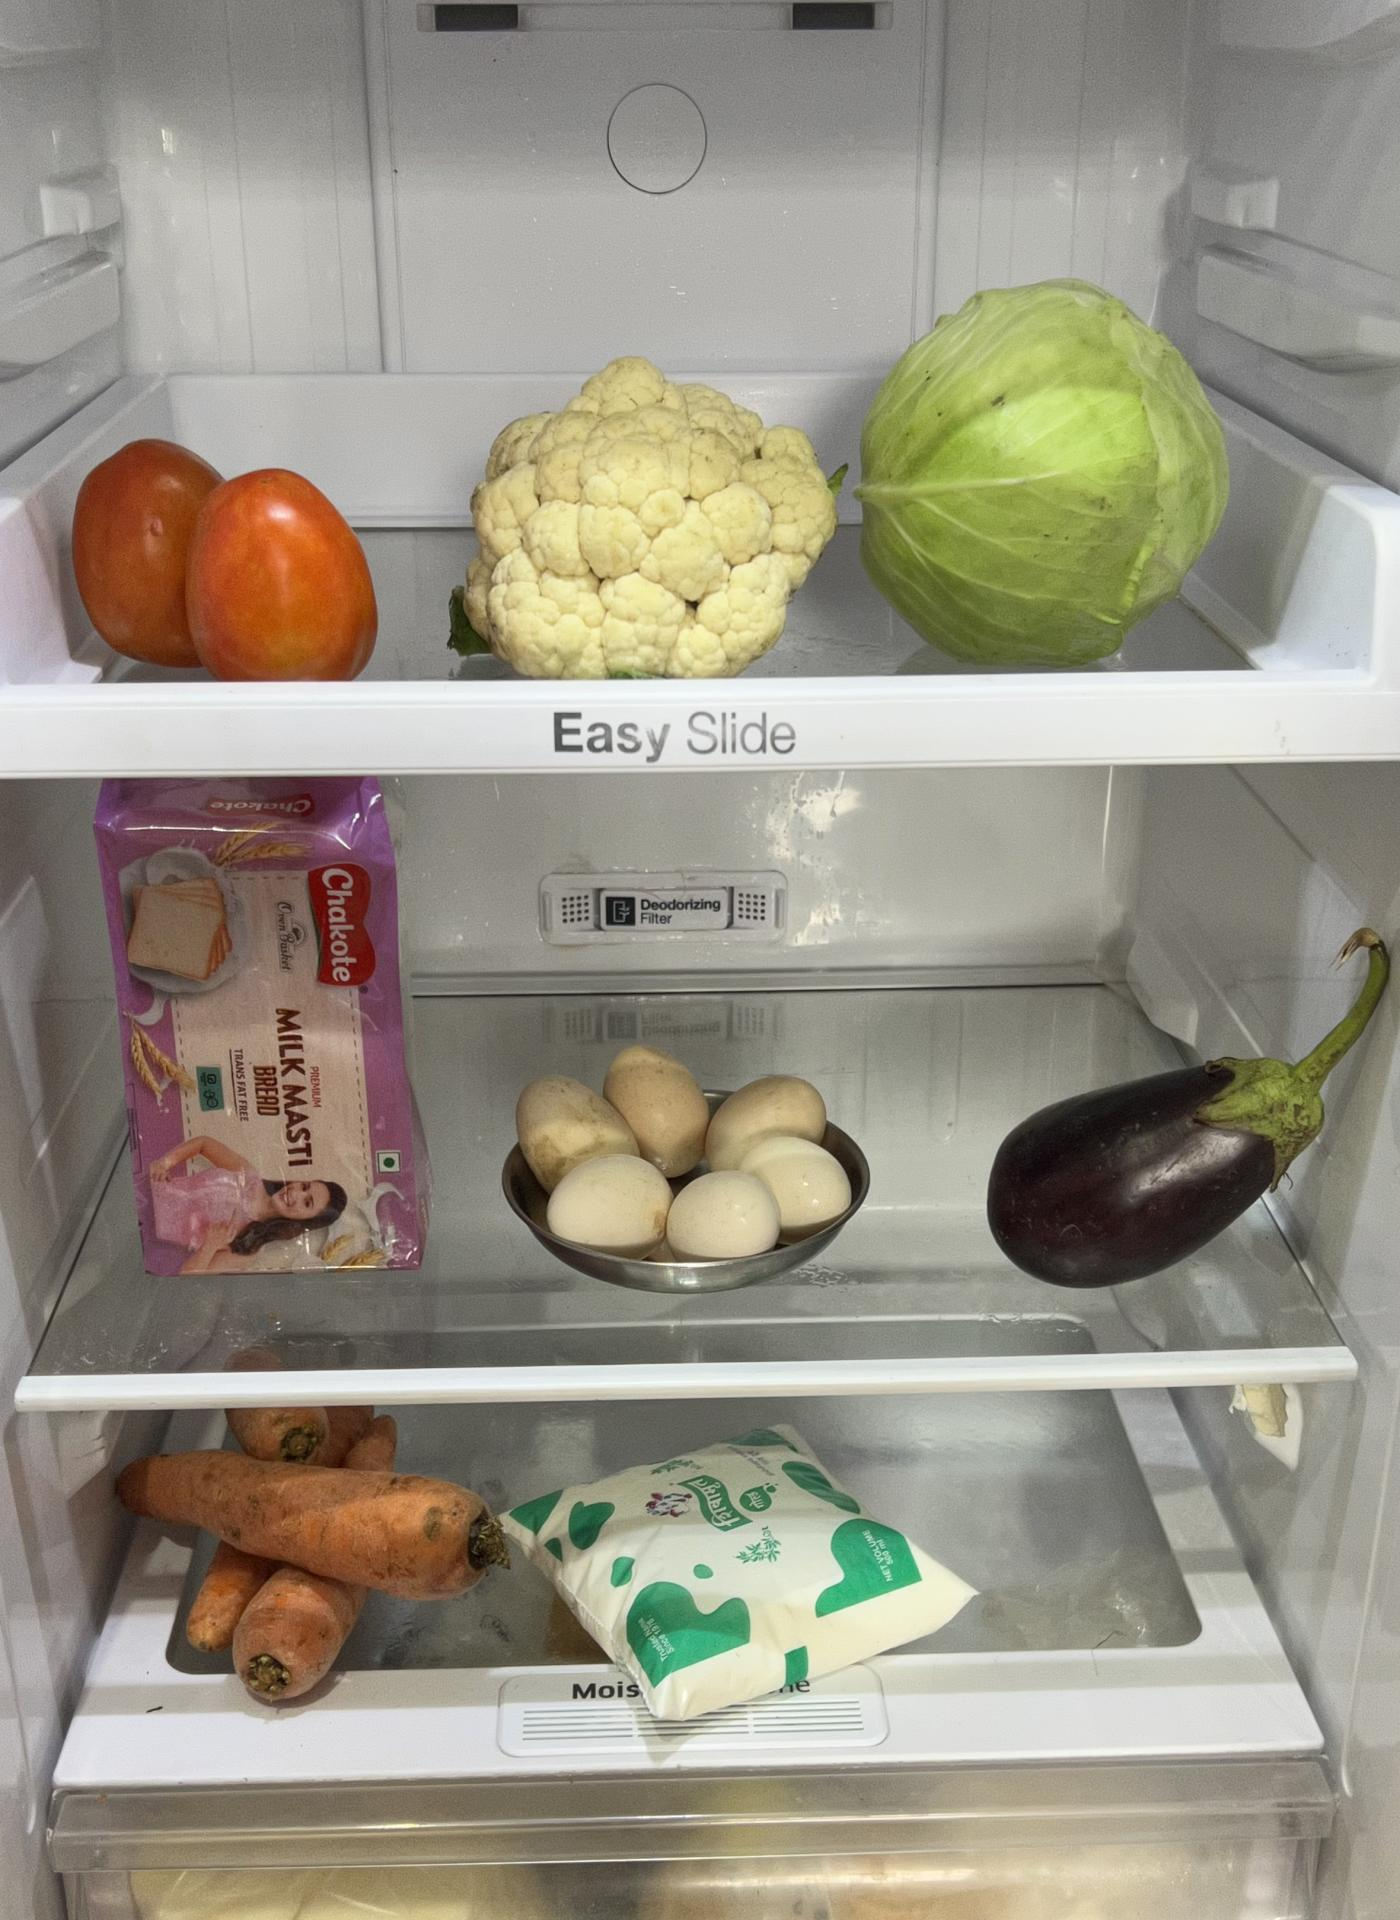bread: (81, 775, 444, 1273)
cabbage: (860, 276, 1227, 654)
carrots: (107, 1407, 505, 1702)
cauliflower: (461, 355, 841, 686)
egg: (513, 1038, 859, 1283)
milk: (510, 1428, 987, 1722)
tomato: (60, 422, 377, 675)
